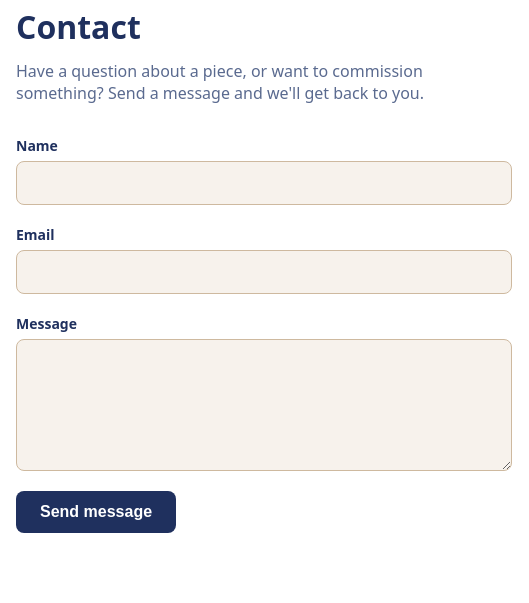
Test: Contact › shows a confirmation message after submitting
The width and height of the screenshot is (529, 603).
In the field labelled "Name": {"x": 264, "y": 183} [16,161,512,205], type "Ada"
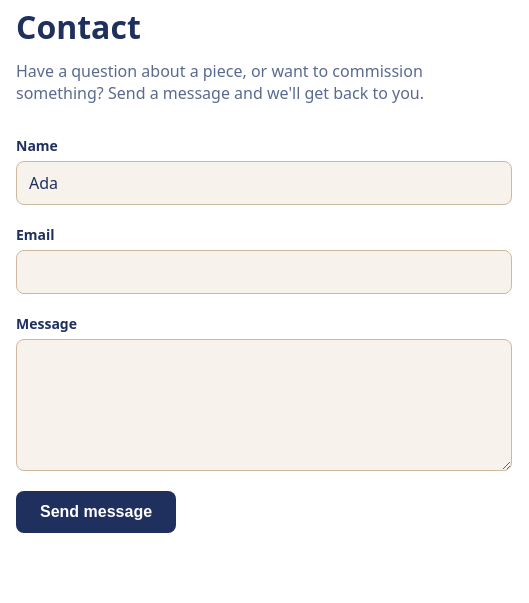
In the field labelled "Email": {"x": 264, "y": 272} [16,250,512,294], type "ada@example.com"
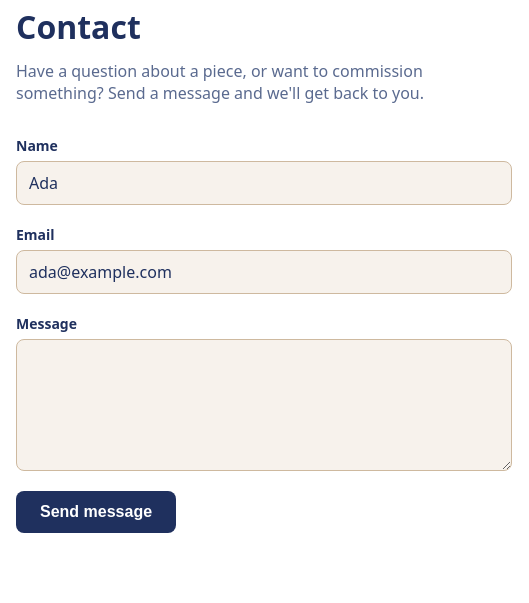
In the text box labelled "Message": {"x": 264, "y": 405} [16,339,512,471], type "Hello!"
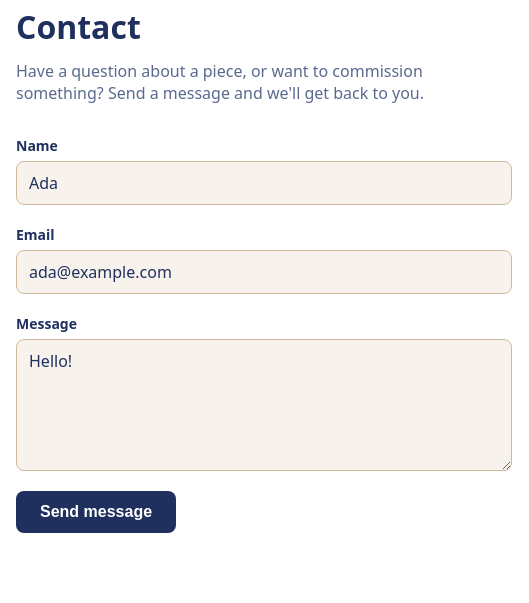
Click the button "Send message": {"x": 96, "y": 512} [16,491,176,533]
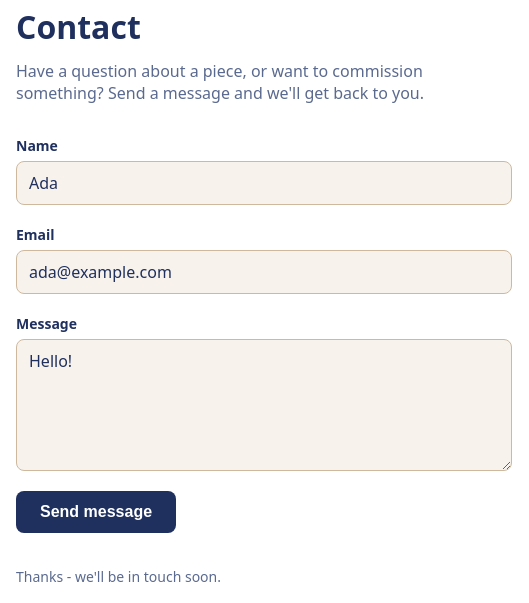
Expected: the message shows "Thanks", [16,567,221,586]
